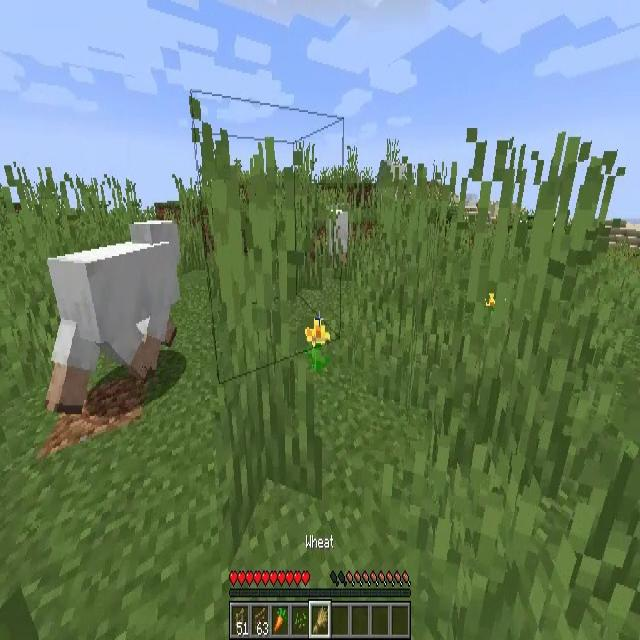flower: (306, 318, 330, 372)
sheep: (49, 222, 182, 410), (326, 205, 349, 268)
